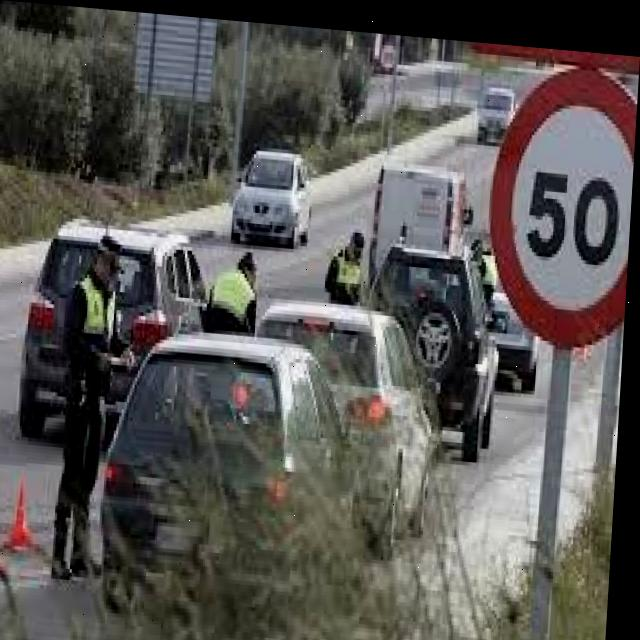Speed limit 50: (484, 47, 638, 344)
